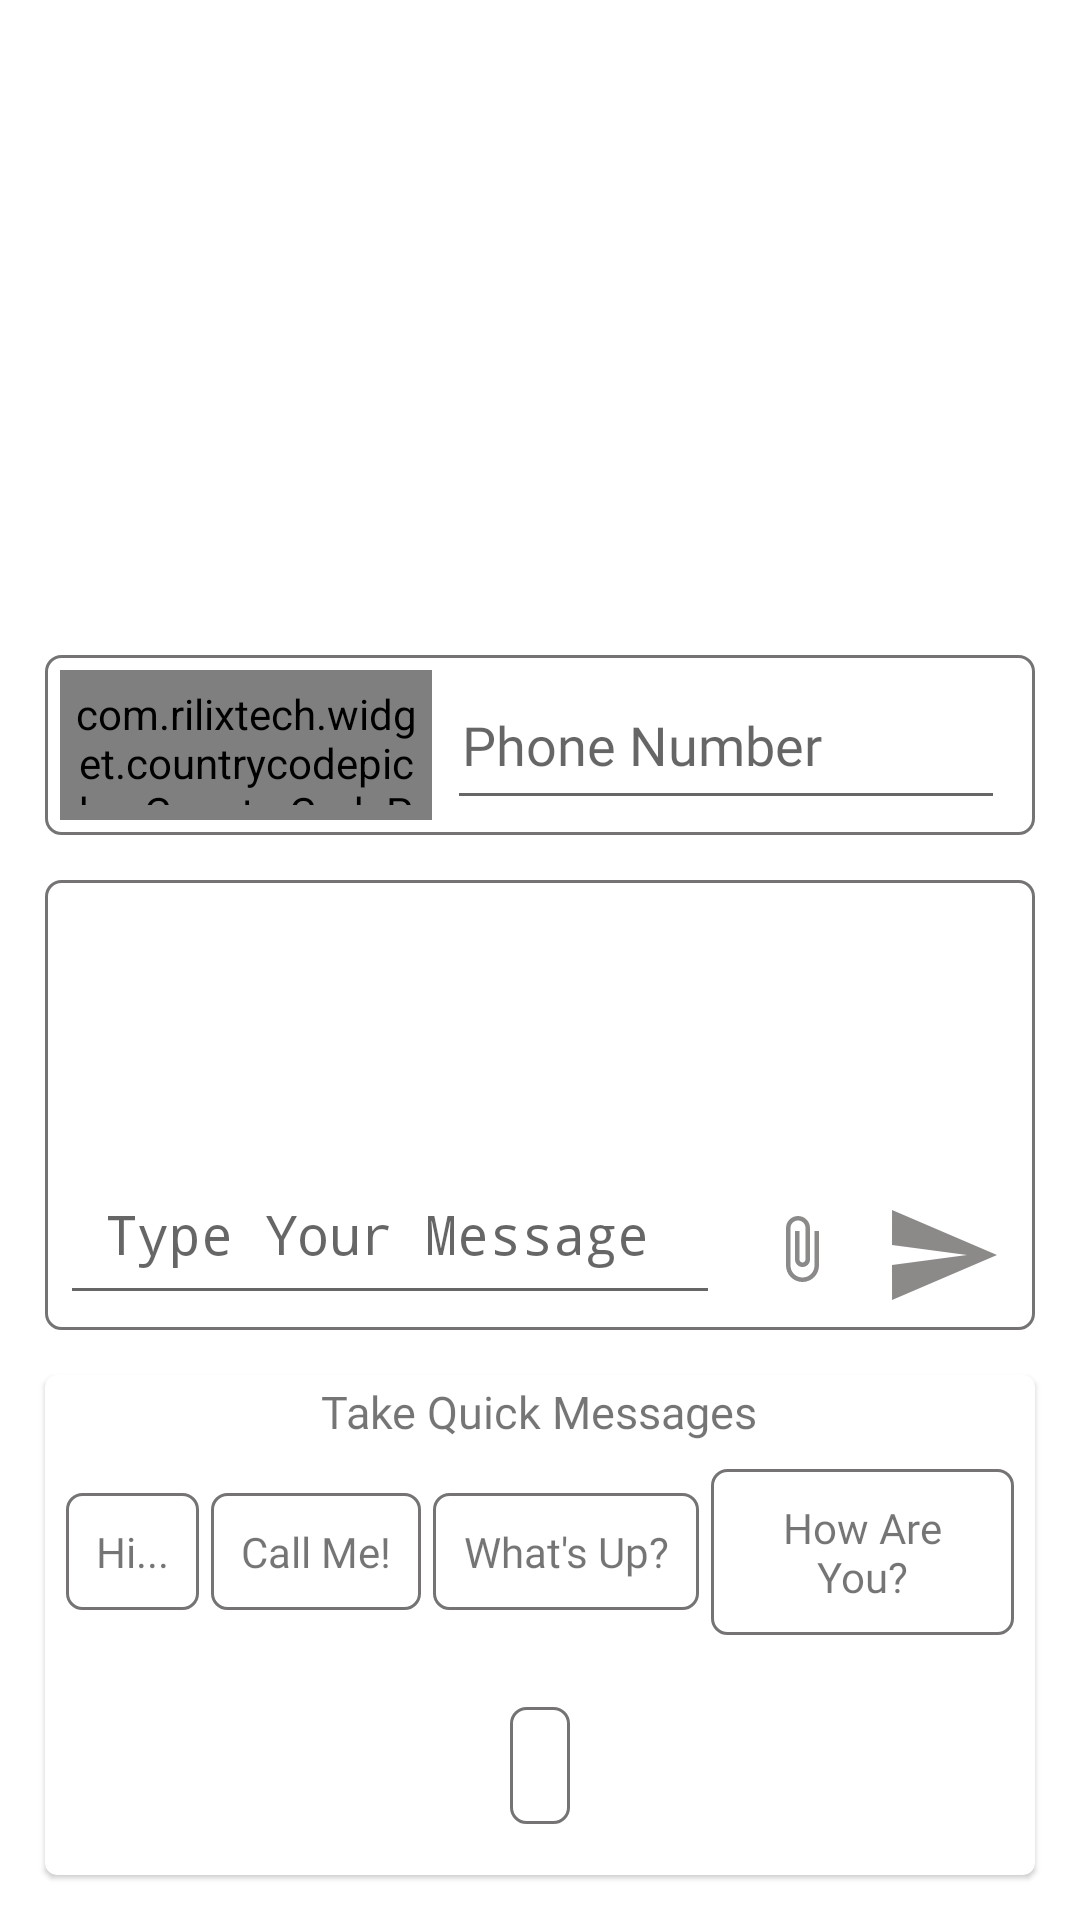

Screen size 1080x1920. Icon name, then its center in pixels as point (x, y):
attach: point (802, 1249)
send: point (944, 1255)
